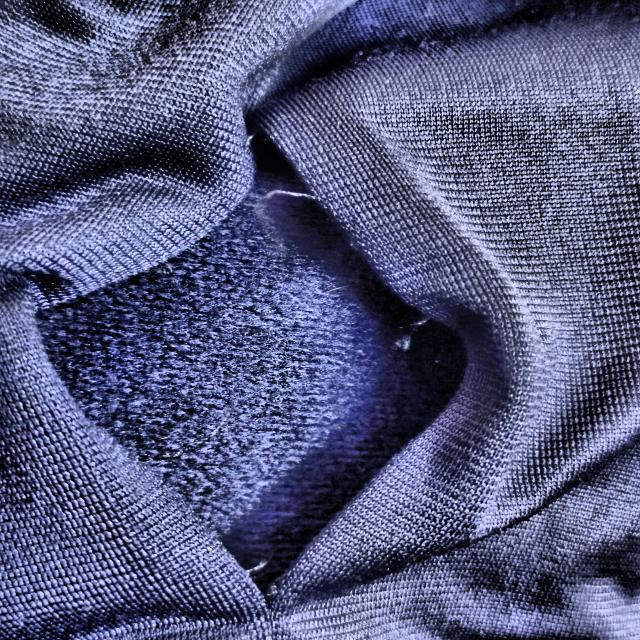cut: (27, 64, 537, 621)
